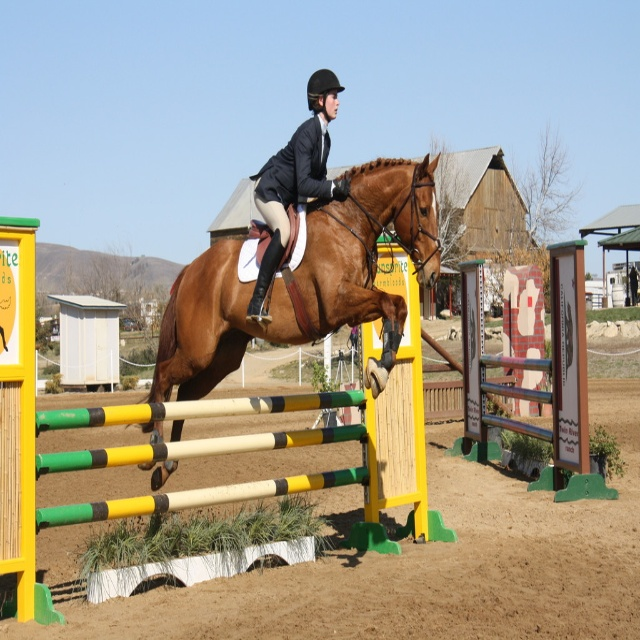Horse: (124, 150, 441, 492)
